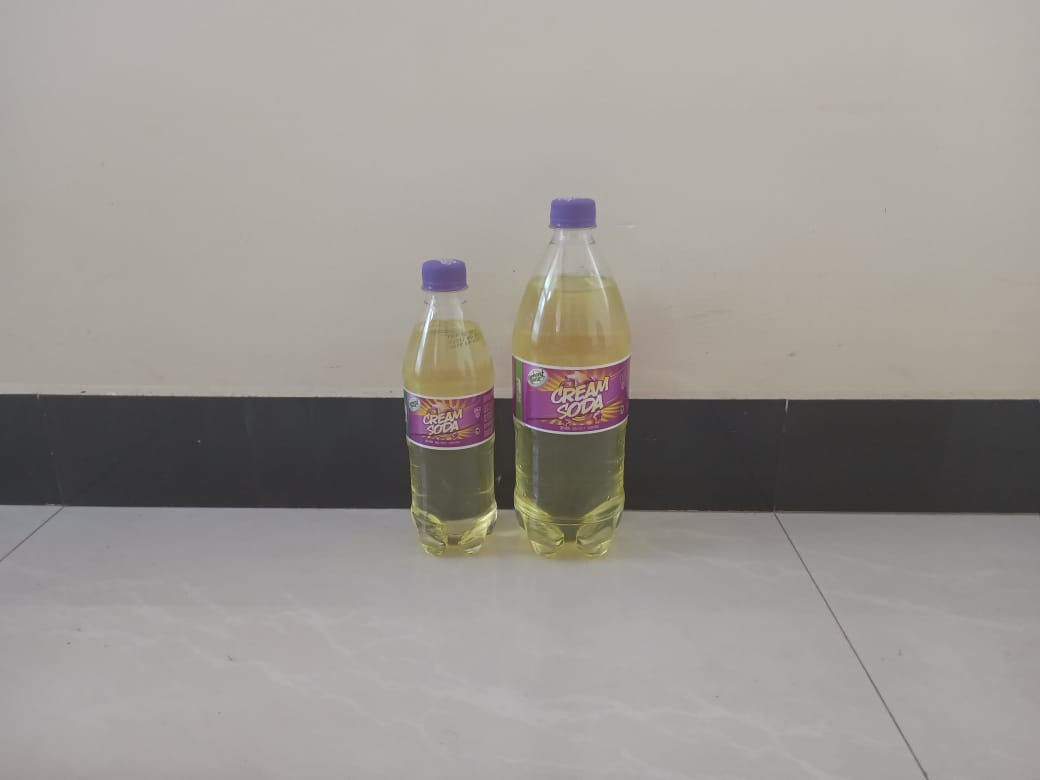M: (511, 194, 630, 561)
S: (401, 256, 500, 556)
